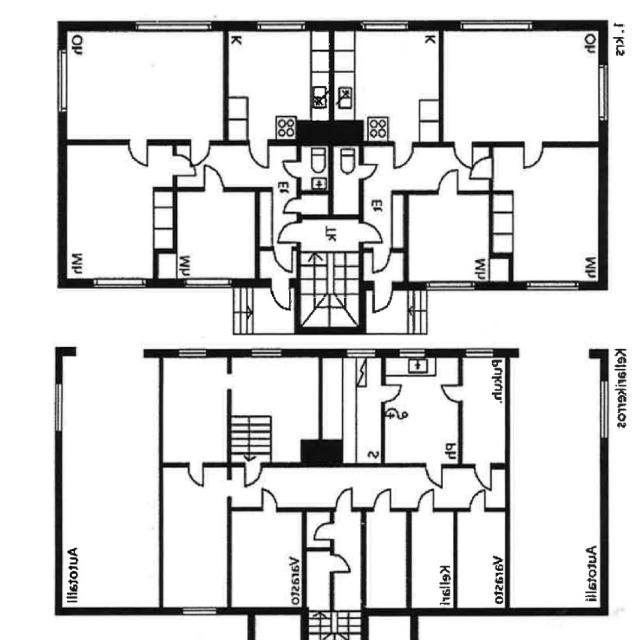door: (271, 281, 290, 311), (128, 141, 148, 167), (470, 157, 493, 179), (374, 282, 392, 310), (191, 141, 210, 167), (250, 140, 269, 166), (439, 168, 458, 194), (173, 155, 196, 176), (204, 166, 223, 191), (274, 247, 293, 272), (394, 140, 412, 166), (525, 140, 543, 166), (278, 222, 301, 242), (454, 141, 472, 166), (373, 248, 391, 272), (359, 223, 381, 242), (245, 463, 262, 487), (475, 462, 491, 486), (426, 463, 442, 486), (374, 489, 390, 512), (336, 489, 352, 512), (330, 554, 350, 572), (188, 462, 204, 484), (418, 490, 433, 512), (443, 385, 462, 402), (315, 523, 334, 540), (282, 161, 301, 178), (470, 491, 485, 512), (382, 385, 400, 402), (263, 492, 277, 512), (283, 198, 301, 213), (360, 164, 378, 179)
